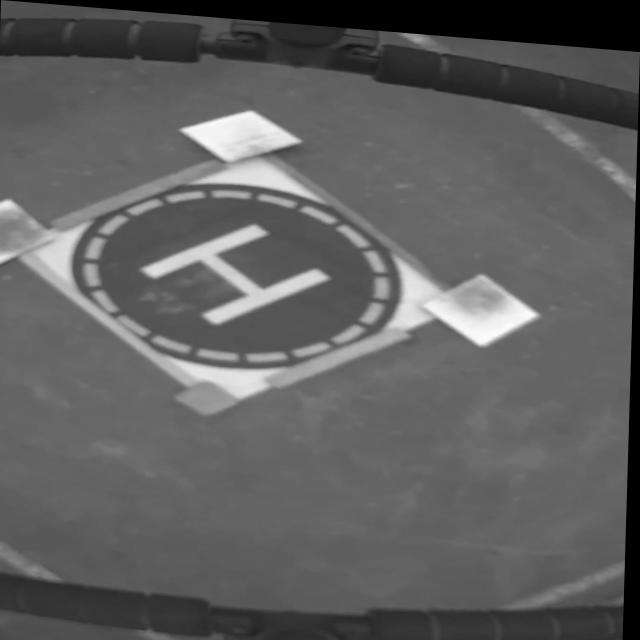Helipad: (138, 220, 331, 322)
